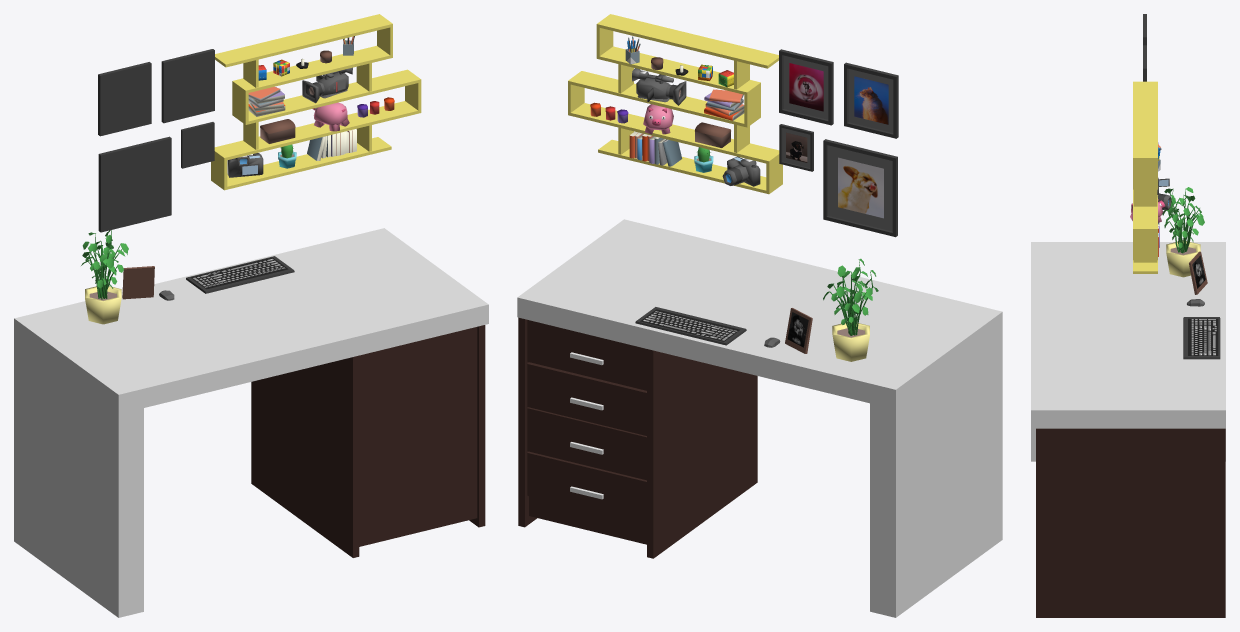
The model's file is backwall_props.glb.
3 views of the same model, side by side, from view 1: azimuth 30°, elevation 25°; view 2: azimuth 150°, elevation 25°; view 3: azimuth 270°, elevation 25° (orthographic). The views are drawn at different scales.
Parts seen in each view (by area): view 1: office_table_003, shelf_014, picture_052, picture_027, picture_048, flower_019, office_table_015, picture_047, prop_077, electronics_016, prop_070, prop_078 (+3 smaller); view 2: office_table_003, shelf_014, picture_052, picture_027, picture_048, flower_019, office_table_015, picture_047, prop_077, electronics_016, prop_078, prop_070 (+3 smaller); view 3: office_table_003, shelf_014, flower_019, office_table_015, prop_070.
Part boxes in pixels (x1,y1,x2,y2): office_table_003: (14, 228, 488, 617); shelf_014: (211, 14, 421, 190); picture_052: (98, 136, 171, 232); picture_027: (161, 49, 214, 123); picture_048: (98, 62, 151, 136); flower_019: (81, 230, 128, 324); office_table_015: (159, 256, 294, 300); picture_047: (181, 122, 214, 168); prop_077: (307, 129, 356, 160); electronics_016: (302, 67, 352, 103); prop_070: (122, 266, 154, 299); prop_078: (248, 86, 285, 116); office_table_003: (517, 219, 1002, 617); shelf_014: (568, 14, 782, 194); picture_052: (823, 139, 897, 237); picture_027: (779, 49, 833, 125); picture_048: (844, 62, 898, 138); flower_019: (823, 258, 878, 361); office_table_015: (635, 307, 780, 347); picture_047: (779, 124, 813, 171); prop_077: (629, 131, 682, 166); electronics_016: (632, 68, 686, 105); prop_078: (704, 89, 744, 120); prop_070: (785, 308, 812, 353); office_table_003: (1031, 242, 1225, 617); shelf_014: (1133, 81, 1157, 273); flower_019: (1162, 187, 1204, 277); office_table_015: (1183, 299, 1220, 359); prop_070: (1189, 251, 1207, 294).
Bounding box in the file's own units: 3.99 × 5.02 × 1.95.
6 materials, 6 textured.
